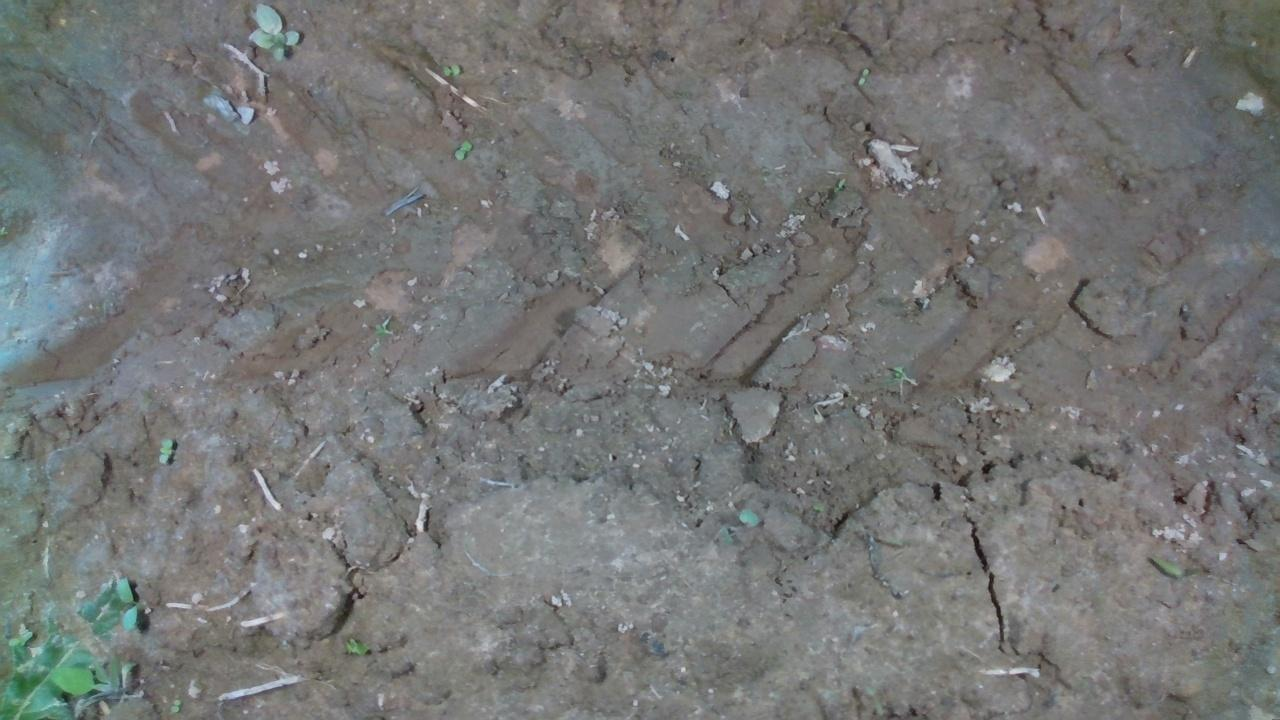weed: (156, 435, 173, 466), (452, 137, 471, 160), (439, 62, 460, 76)
